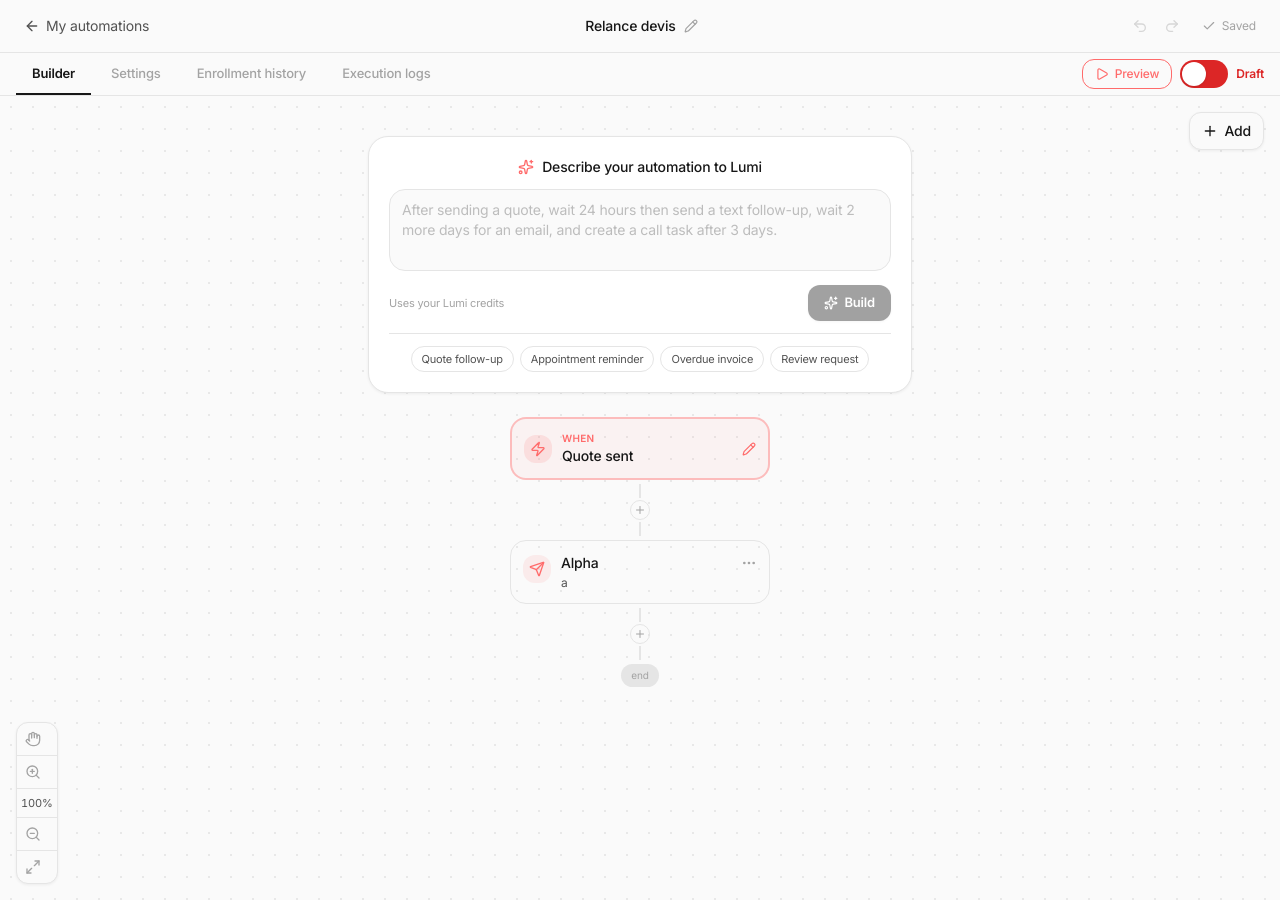
Scenario: A-16 — « Dupliquer l’action » suffixe dans la langue de l’interface › « (copy) » en anglais
Click the button named "Options for Alpha": (749, 563) [737,551,761,575]
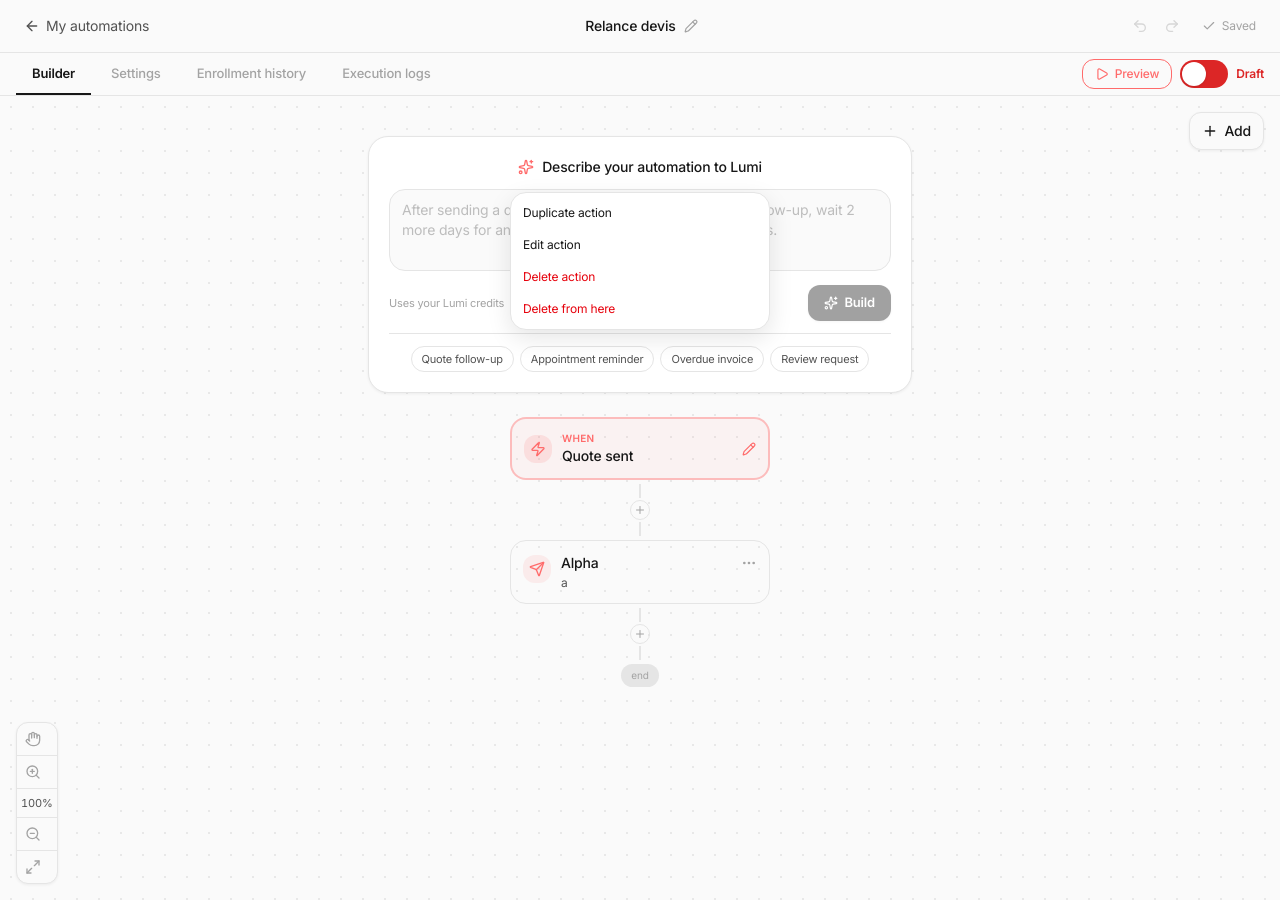
Click the button "Duplicate action": (640, 213) [511,197,769,229]
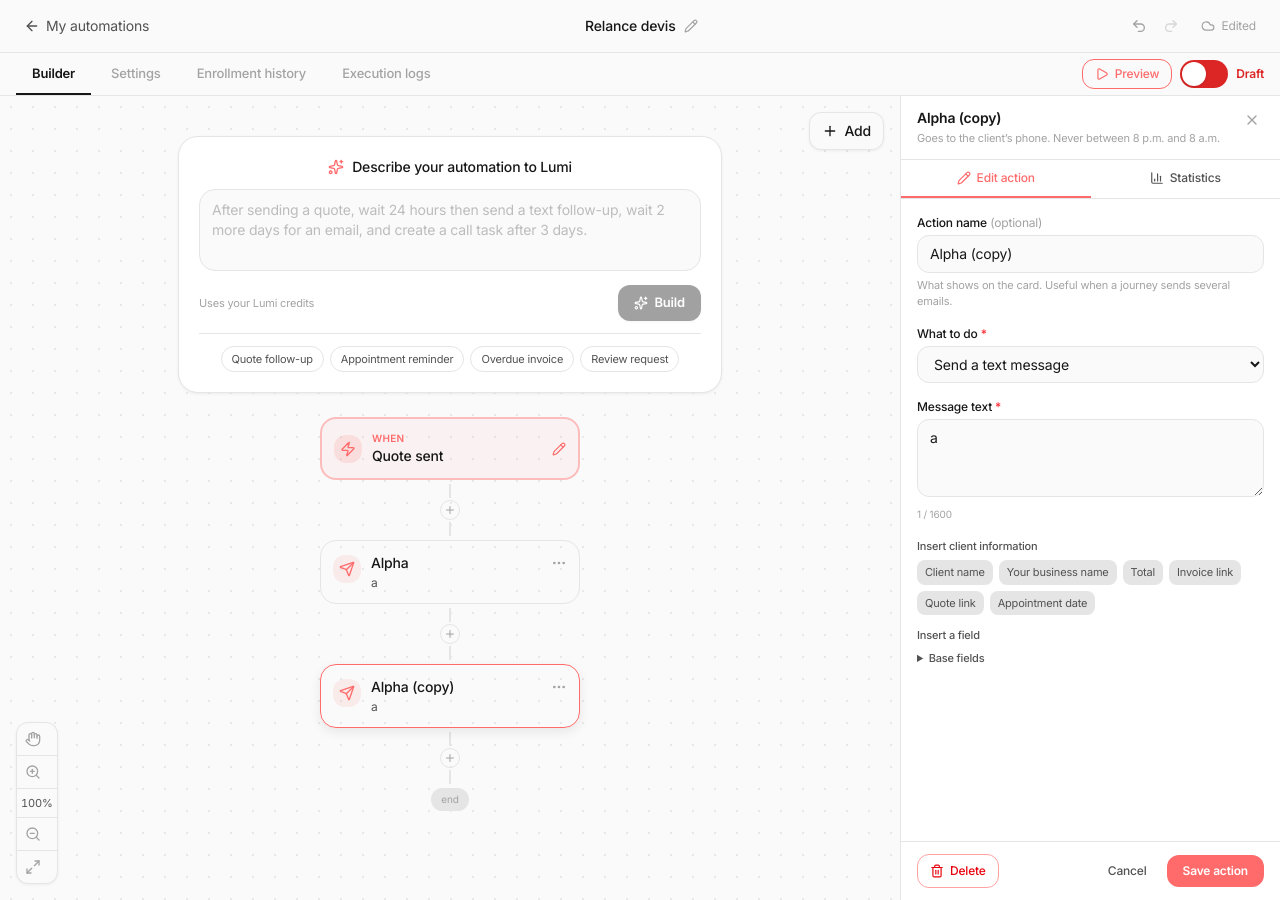
Expected: the text "Alpha (copy)" is shown, [371,678,454,695]
